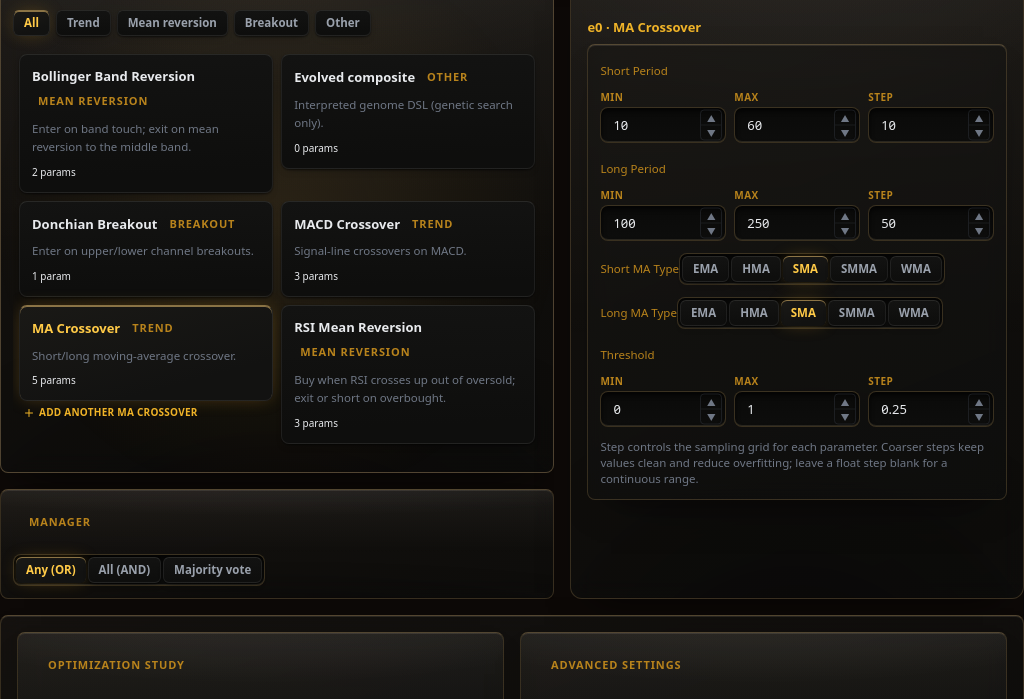
Test: OptimizeSetupPanel multi-entry › renders two per-instance search-space sections, manager selector, and exit ranges
This screenshot has width=1024, height=699.
(page scrolled)
Expected: the button "MA Crossover" is shown, [19, 305, 273, 401]
Click the button "RSI Mean Reversion" at (408, 375), box [281, 305, 535, 444]
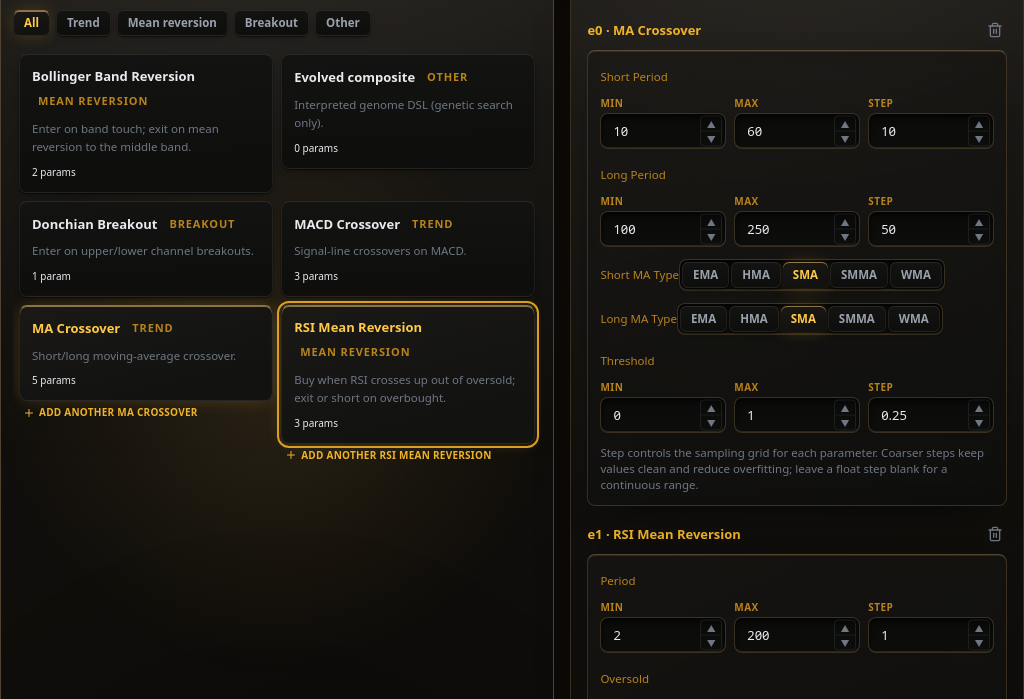
Expected: the heading "e0 · MA Crossover" is shown, [587, 21, 701, 39]
Now the heading "e1 · RSI Mean Reversion" is shown, box [587, 525, 741, 543]
Now the text "Period" is shown, box [600, 573, 636, 589]
